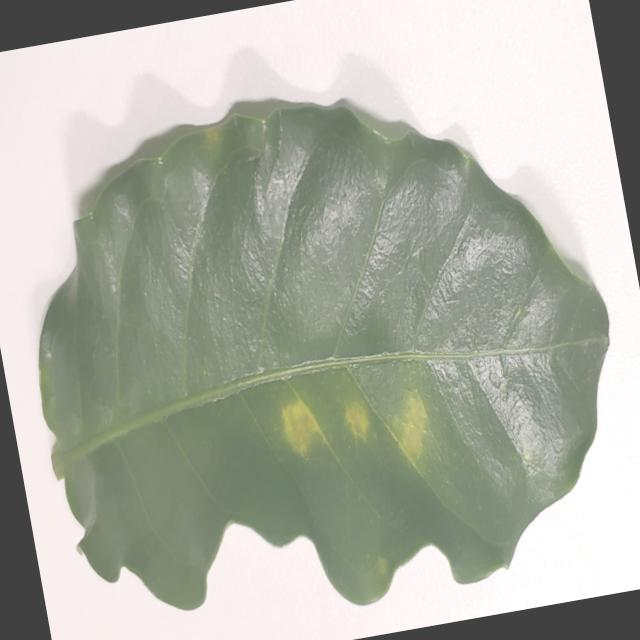KaratDaunKopi: (397, 391, 427, 461), (282, 398, 318, 456), (346, 401, 369, 439), (377, 555, 388, 575)
